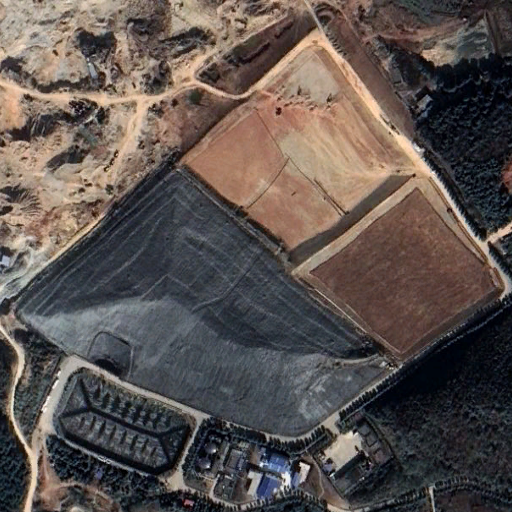lf: (12, 166, 397, 439)
